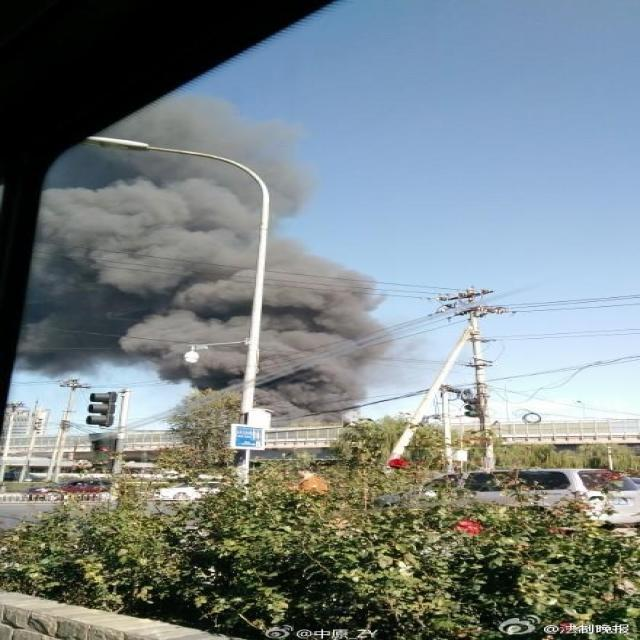Smoke: (13, 90, 396, 427)
